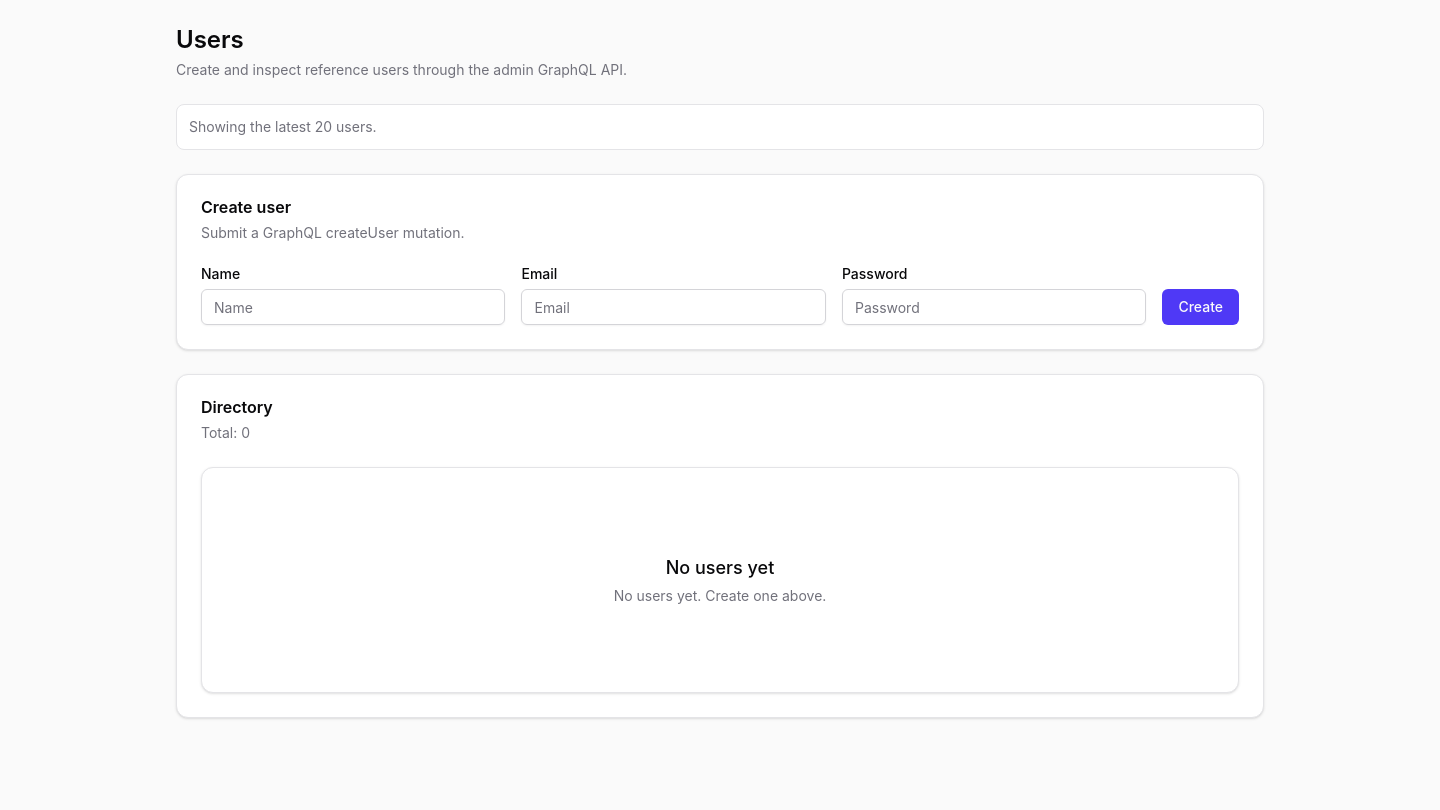
Scenario: UsersPage › shows validation and auth errors from createUser
The image size is (1440, 810).
Expected: the text "No users yet. Create one above." is shown, [614,586,826,606]
Type "Created User" into the field with placeholder "Name". click: (353, 307)
box: [201,289,506,325]
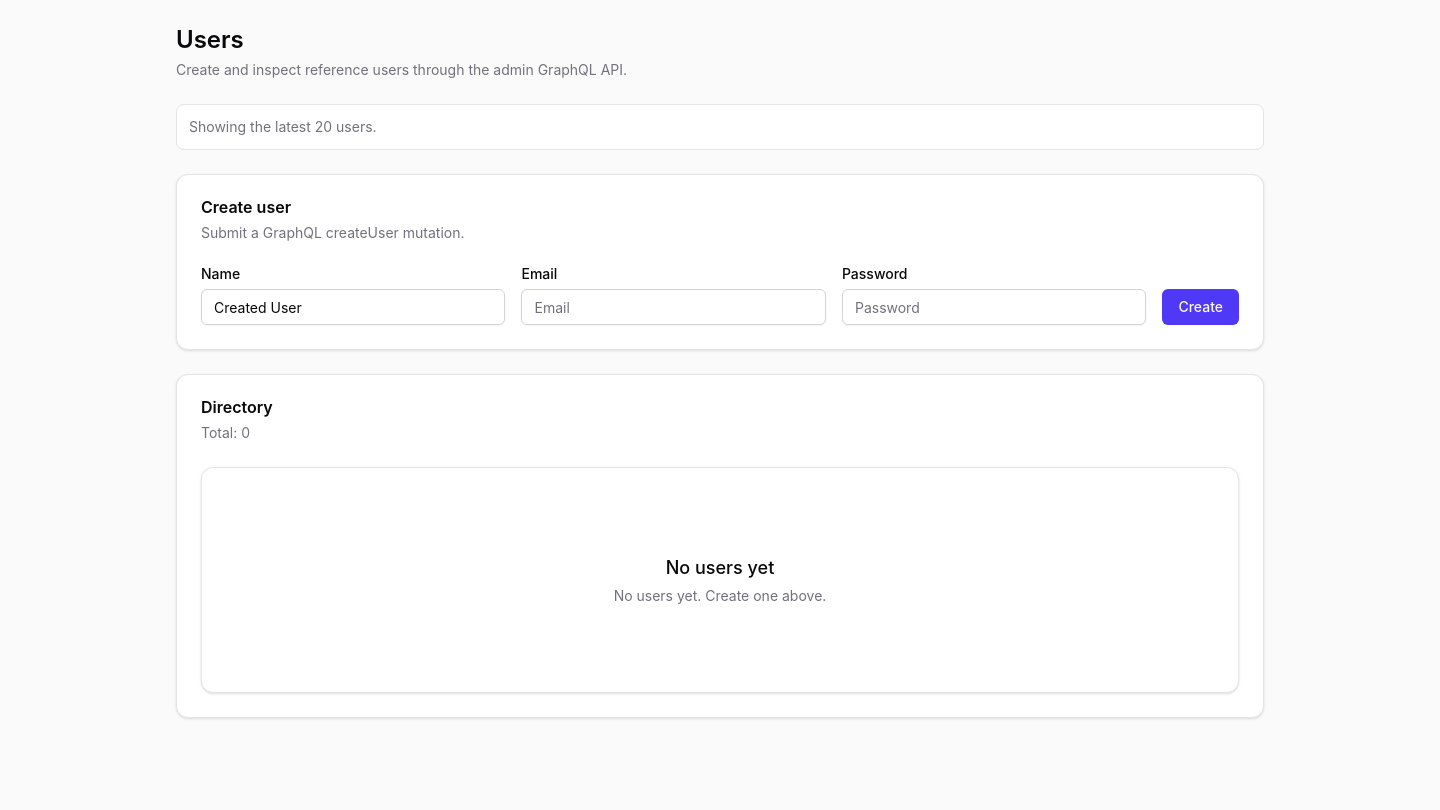
Type "created@example.com" into the field with placeholder "Email". click: (674, 307)
box: [522,289,826,325]
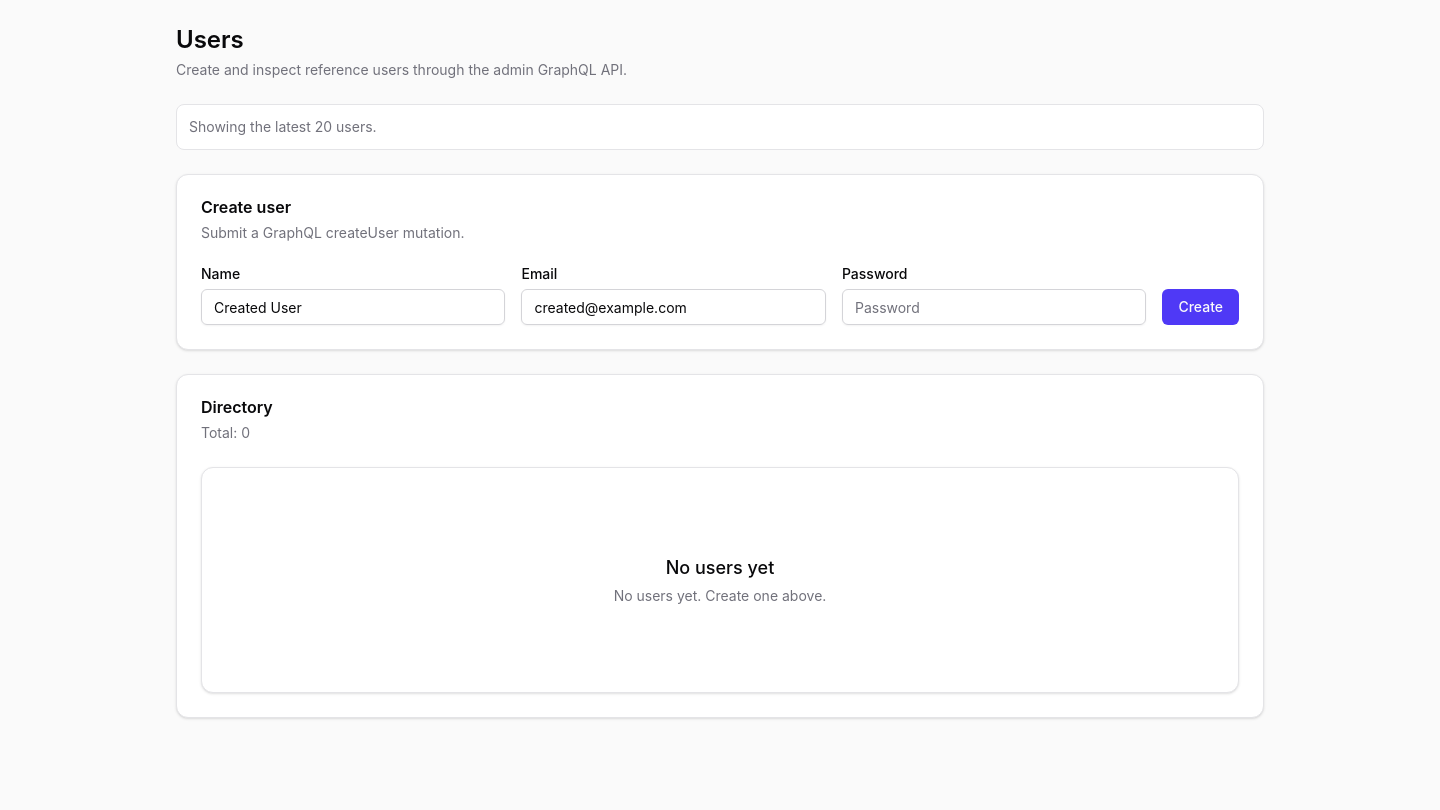
Type "Password123!" into the password field with placeholder "Password". click: (994, 307)
box: [842,289,1146,325]
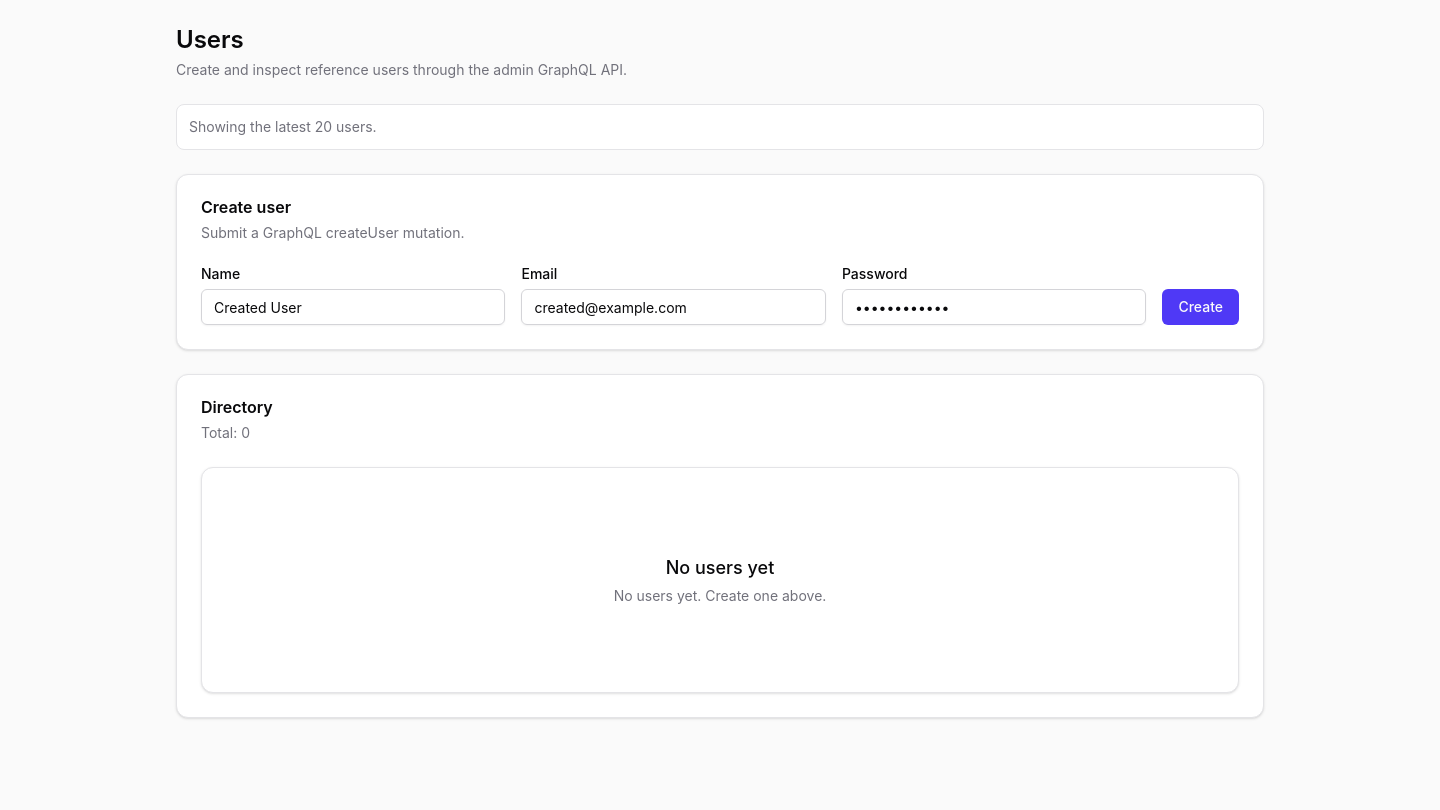
Click the button "Create". click: (1201, 307)
box: [1162,289,1239,325]
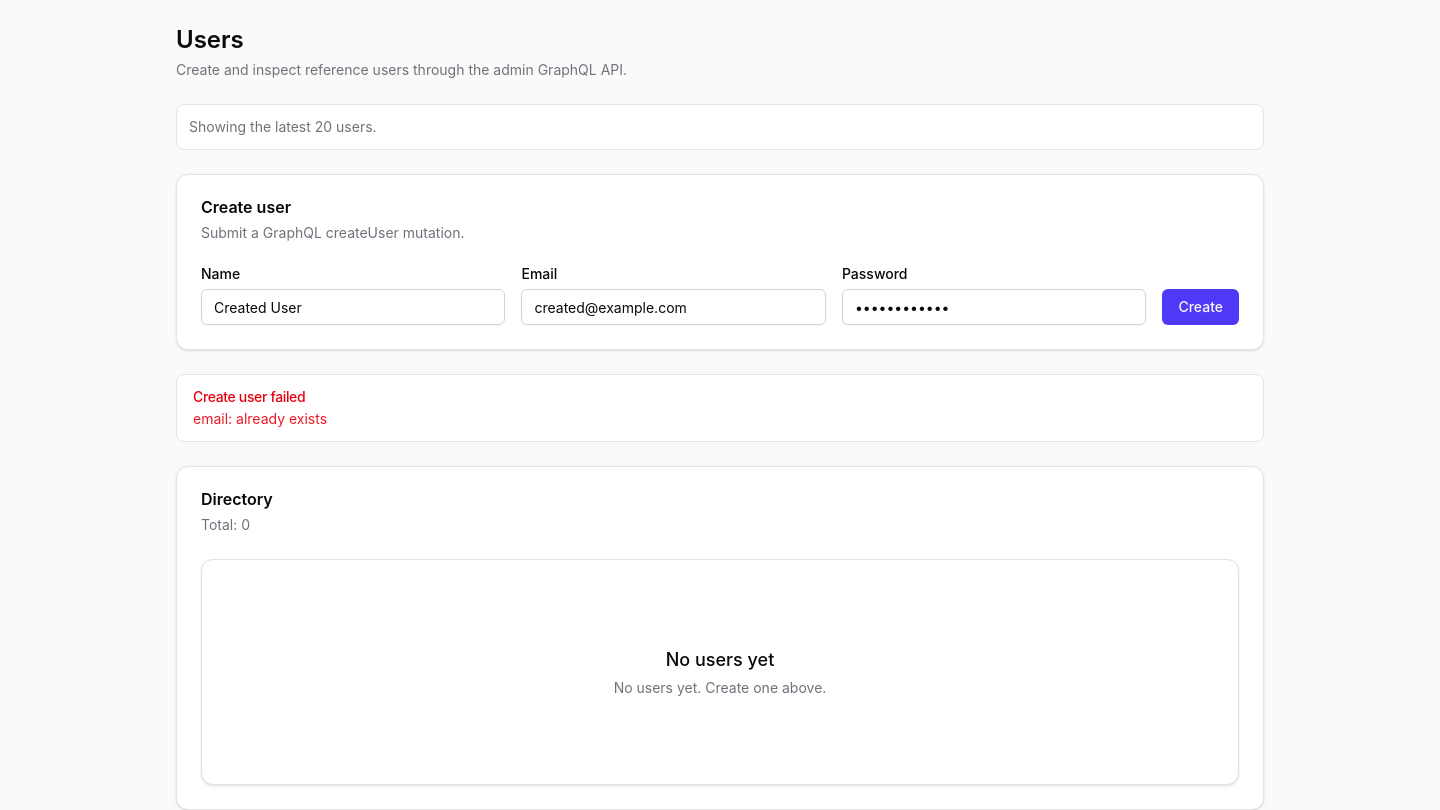
Now the text "email: already exists" is shown, box [193,410,327,427]
